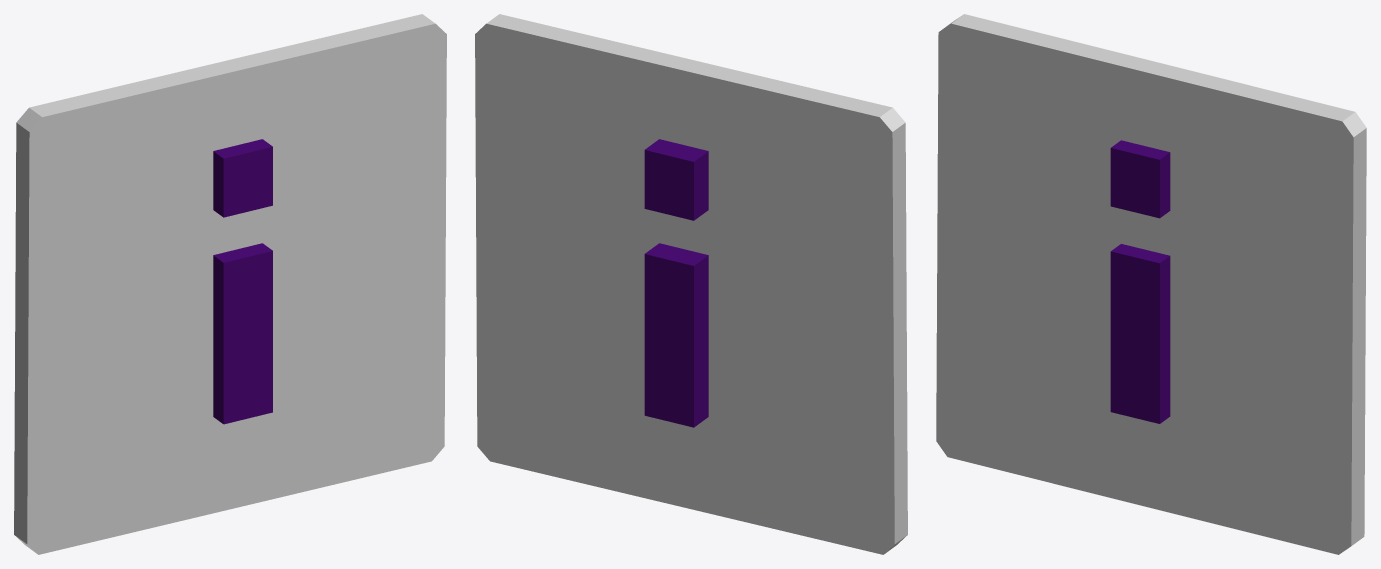
Rendered from info_icon.glb.
3 renders of one model, left to right at view 1: azimuth 30°, elevation 25°; view 2: azimuth 150°, elevation 25°; view 3: azimuth 330°, elevation 25°, orthographic.
Visible parts, largest first — view 1: icon; view 2: icon; view 3: icon.
Boxes of the visible parts, <box> form: icon: <box>14,14,446,554</box>; icon: <box>475,14,907,554</box>; icon: <box>936,14,1366,554</box>.
Bounding box in the file's own units: 0.5065 × 0.5065 × 0.0805.
